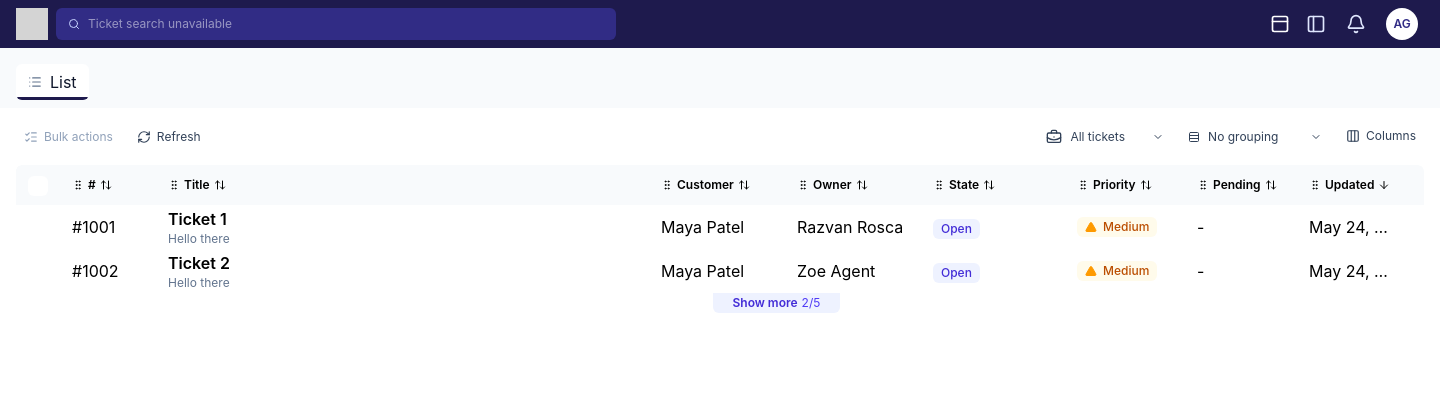
Test: TicketWorkspace complete display-name sorting › sorts every matching ticket by owner before exposing the first page
Click the button "Owner" at x=853, y=185, box [797,177,909,193]
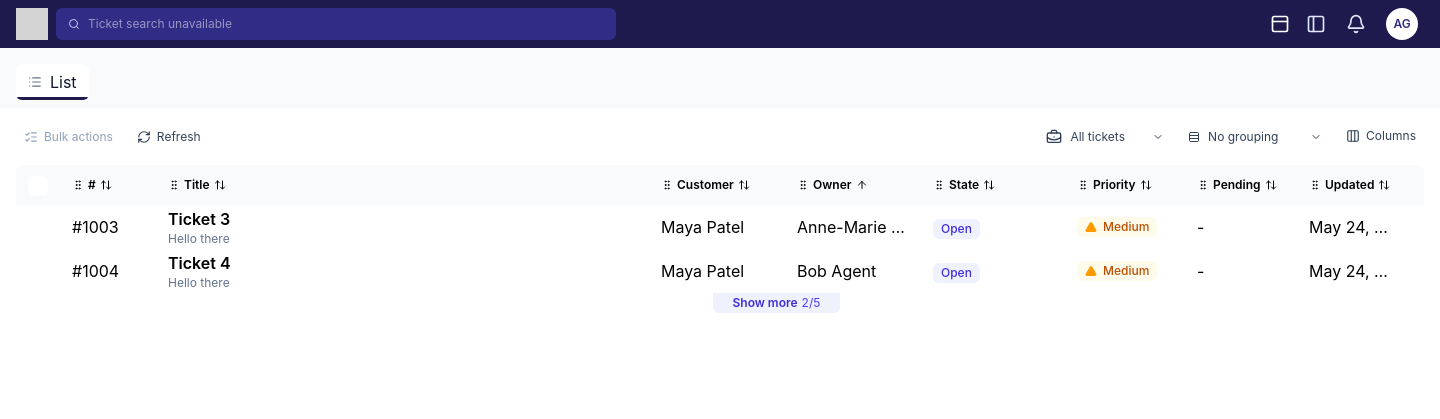
Result: the text "Anne-Marie Cioenariu" is shown at [797,215,909,239]
Result: the text "Bob Agent" is shown at [797,259,876,283]
Result: the text "Razvan Rosca" is gone
Click the button with aria-label "Show more tickets (2/5)" at x=776, y=303, box [712,293,840,313]
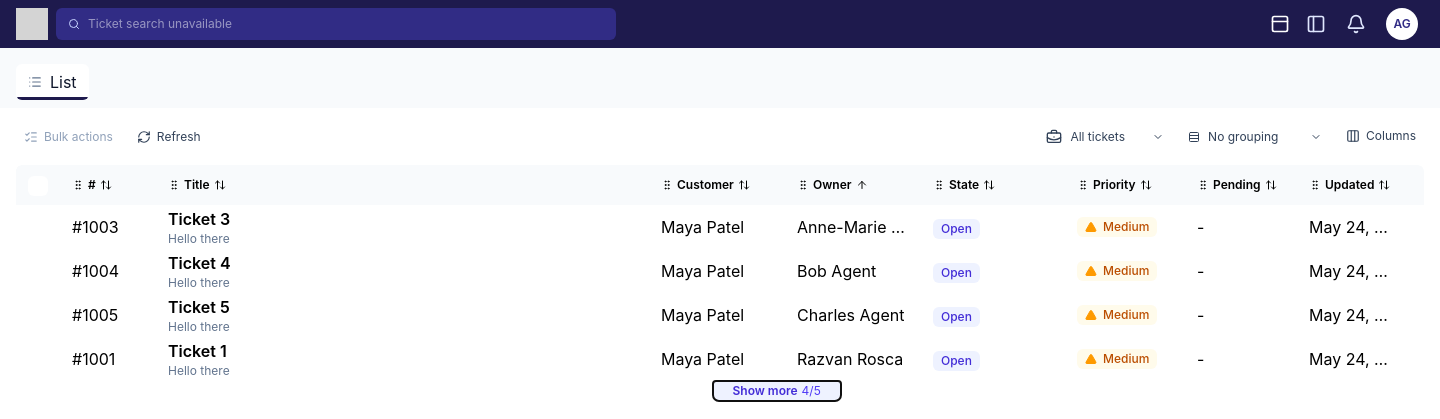
Result: the text "Charles Agent" is shown at [797,303,904,327]
Result: the text "Razvan Rosca" is shown at [797,347,903,371]
